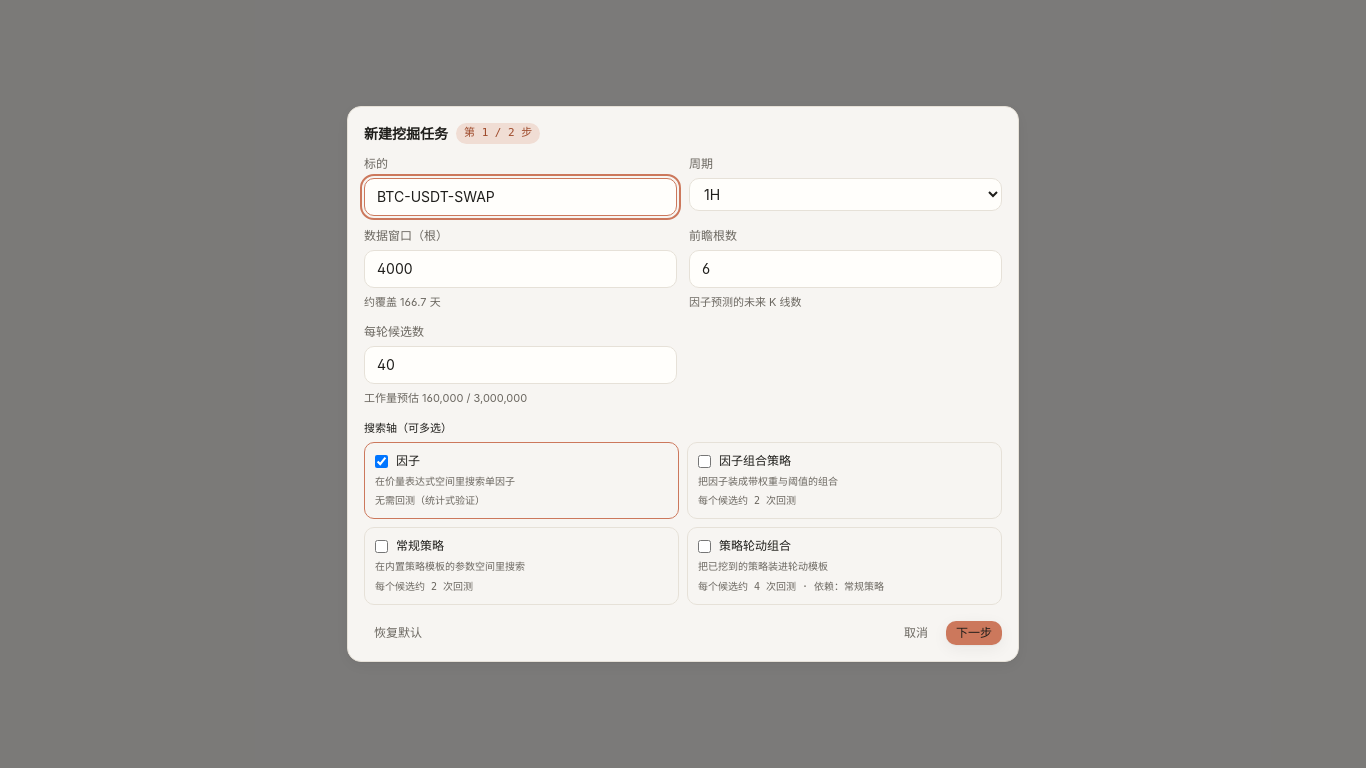
Test: DiscoveryLauncher — 两步式启动器 › 后端报错时显示错误而不是静默失败
The width and height of the screenshot is (1366, 768).
Click the button "下一步" at (974, 633), box [946,621,1002,645]
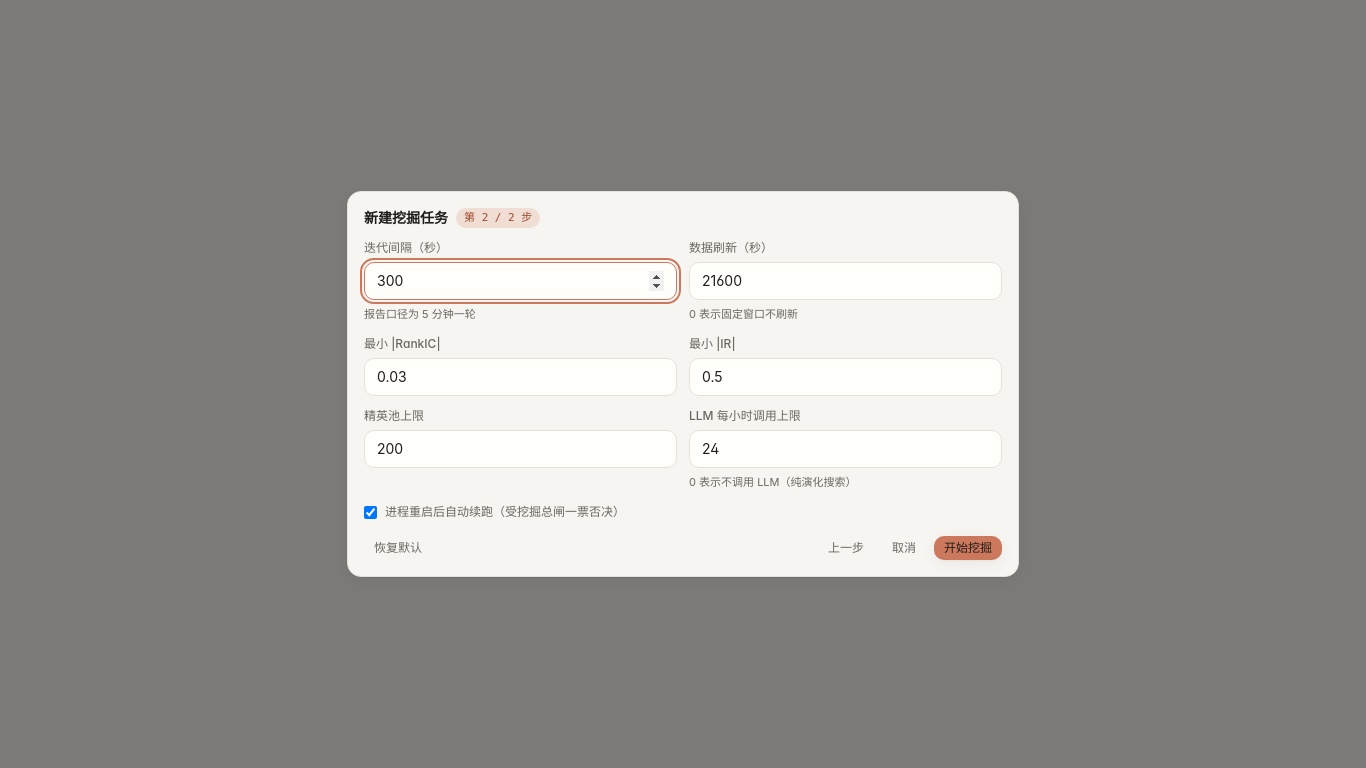
Click the button "开始挖掘" at (968, 548), box [934,536,1002,560]
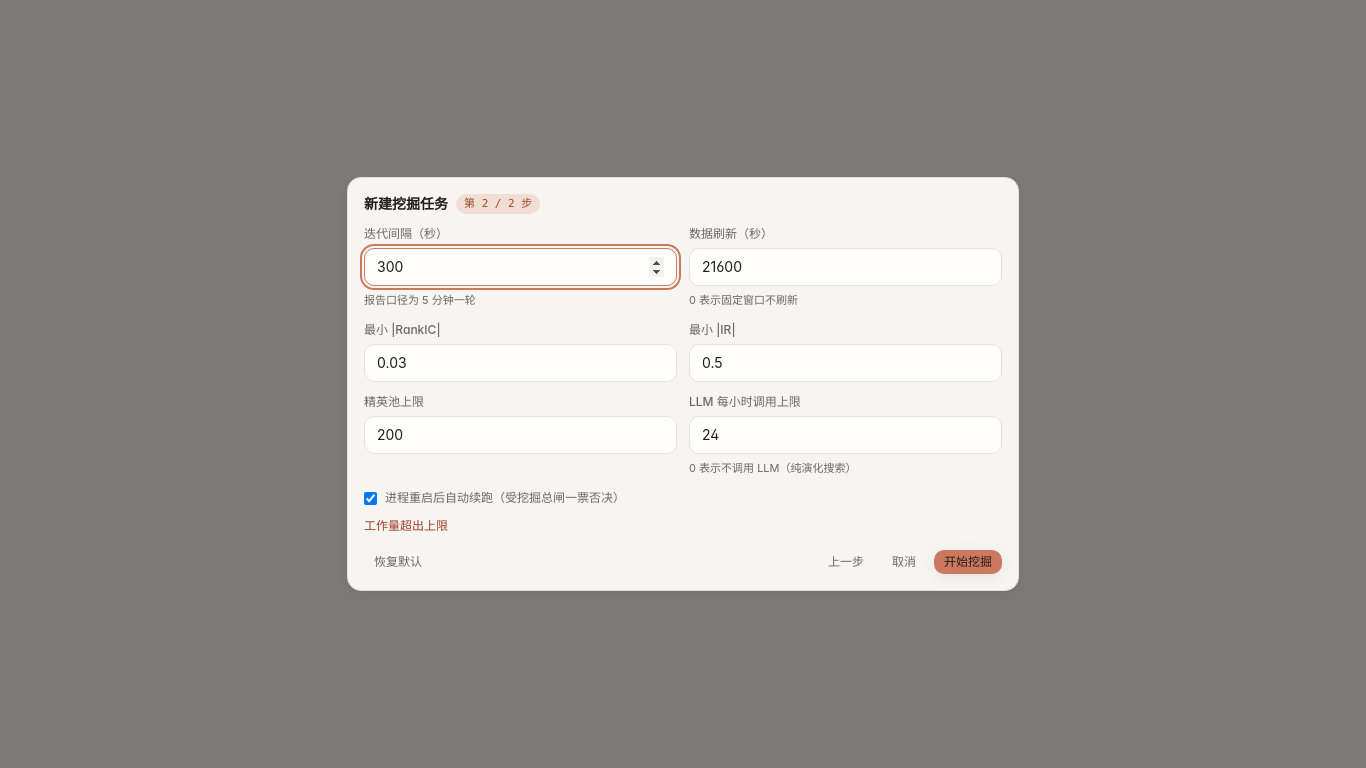
Expected: the message reads "工作量超出上限", [364,518,448,533]
